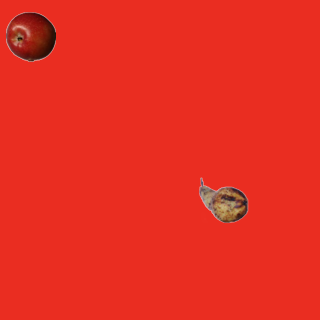Apple Braeburn: (5, 11, 55, 61)
Pear Abate: (198, 175, 248, 225)
